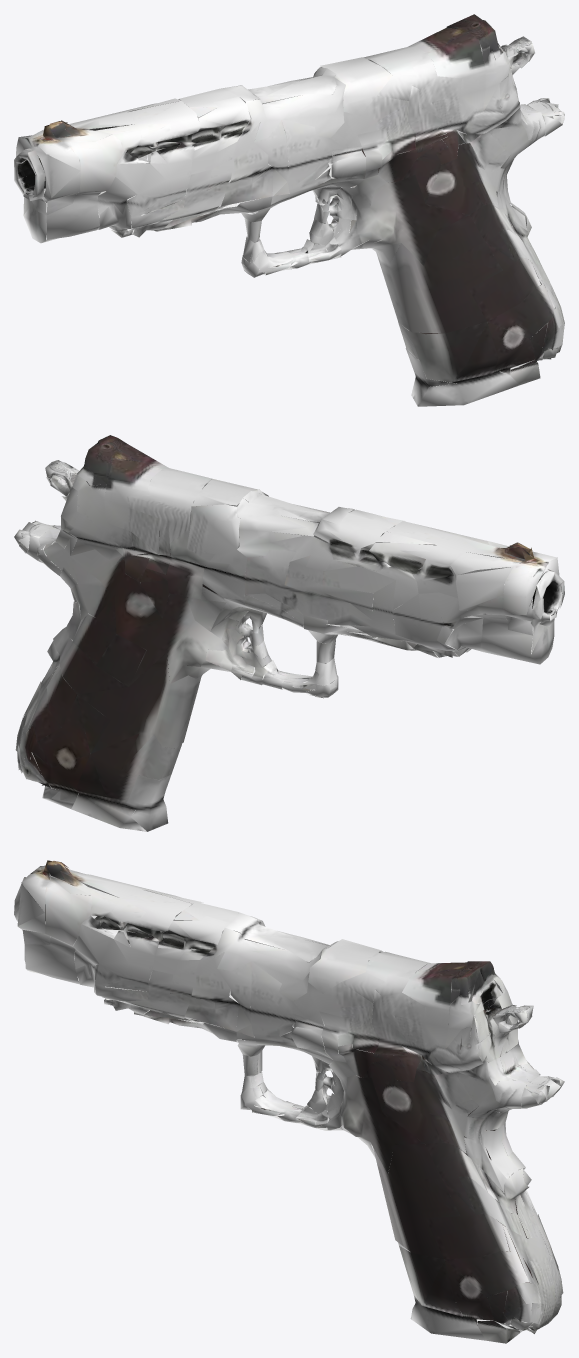
File: agir-tabanca.glb
3 renders of one model, top to bottom at view 1: azimuth 30°, elevation 25°; view 2: azimuth 150°, elevation 25°; view 3: azimuth 330°, elevation 25°, orthographic.
Visible parts, largest first — view 1: Mesh_0; view 2: Mesh_0; view 3: Mesh_0.
Boxes of the visible parts, bbox=[...] form: Mesh_0: bbox=[14, 14, 564, 406]; Mesh_0: bbox=[14, 435, 564, 831]; Mesh_0: bbox=[14, 860, 564, 1343].
Size of the model in its own units: 2 by 1.33 by 0.2868.
1 material, 1 textured.
